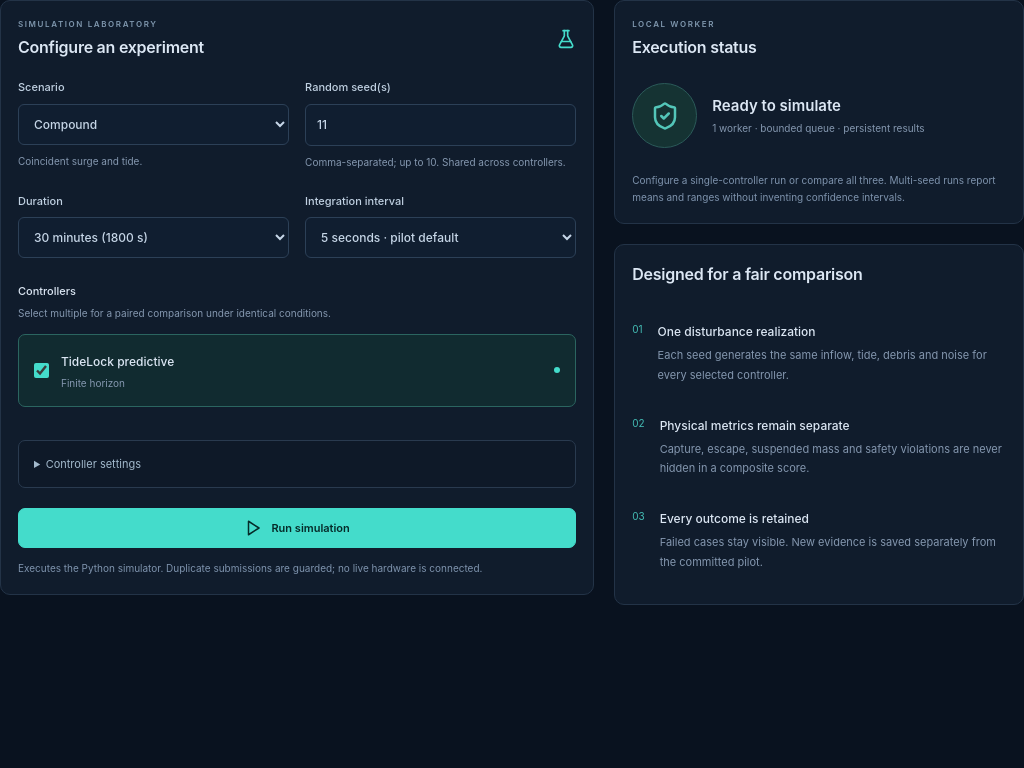
simulation laboratory › shows validation and does not submit invalid input
This screenshot has width=1024, height=768.
Step 1. Replace the text in the field named "Random seeds" with "11,11" → (441, 124), box [305,104,576,146]
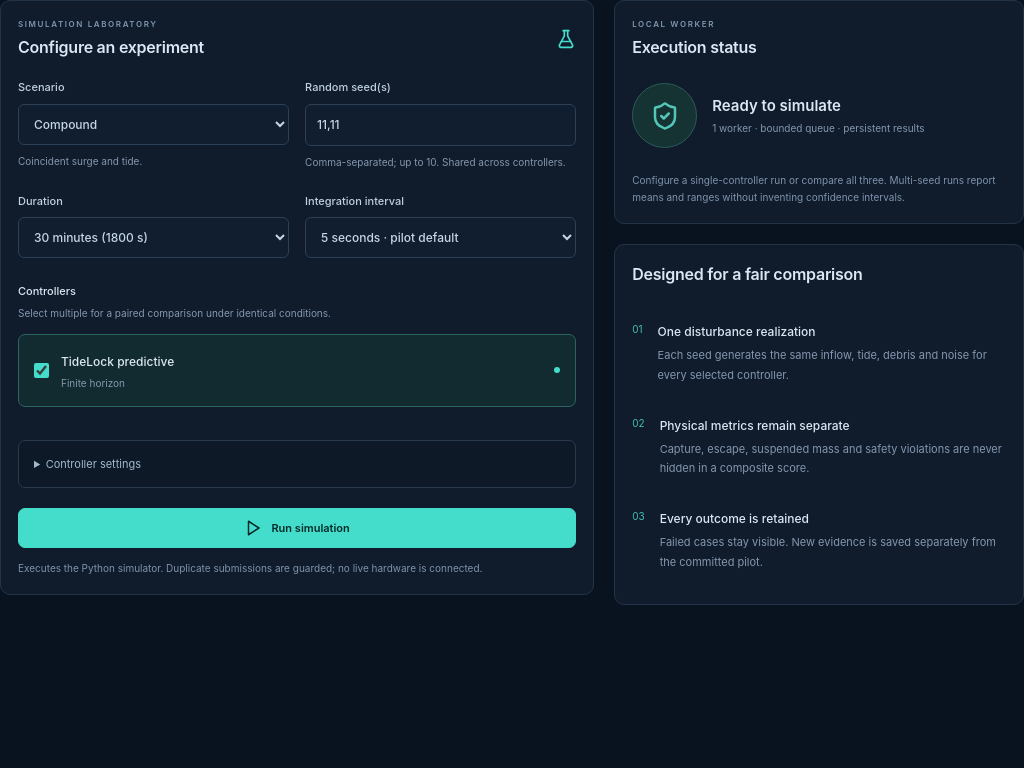
Step 2. Click the button "Run simulation" → (297, 528), box [18,508,576,548]
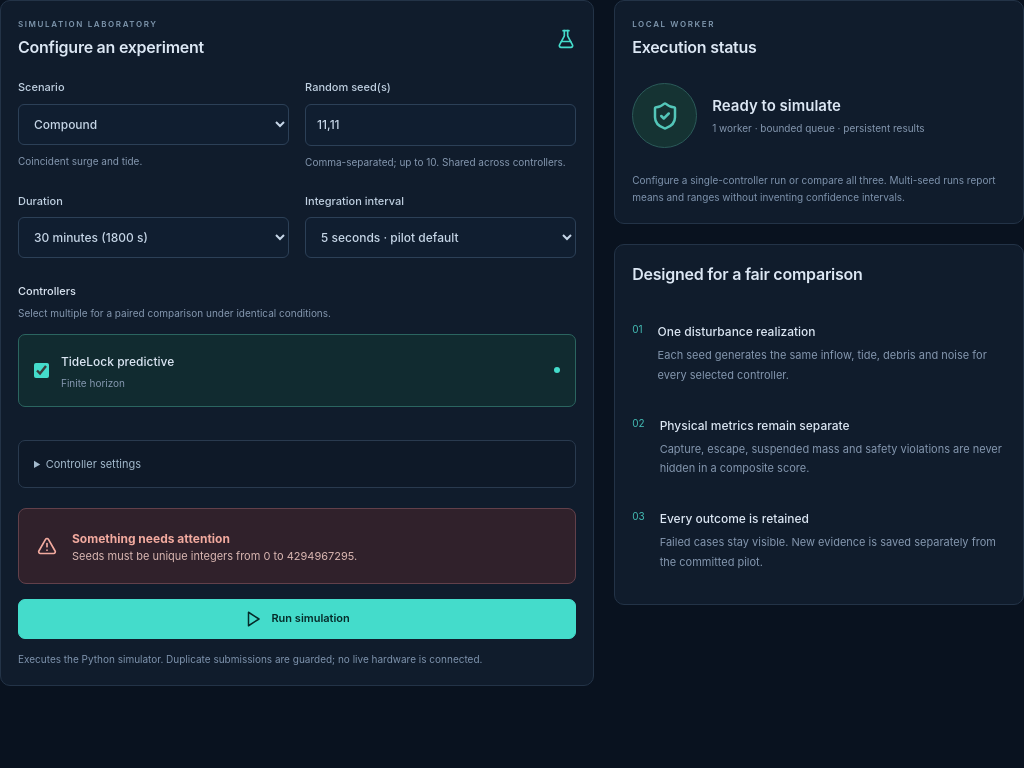
Result: the message shows "unique integers" at [72,549,357,563]
